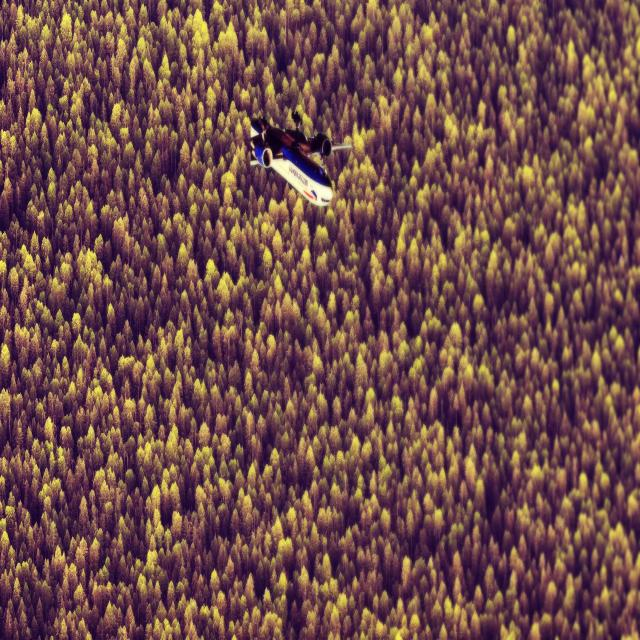airplane: (249, 110, 352, 209)
